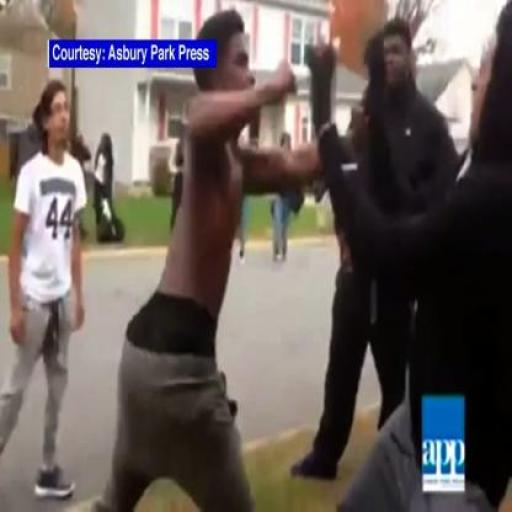Fighting: (104, 12, 507, 510)
